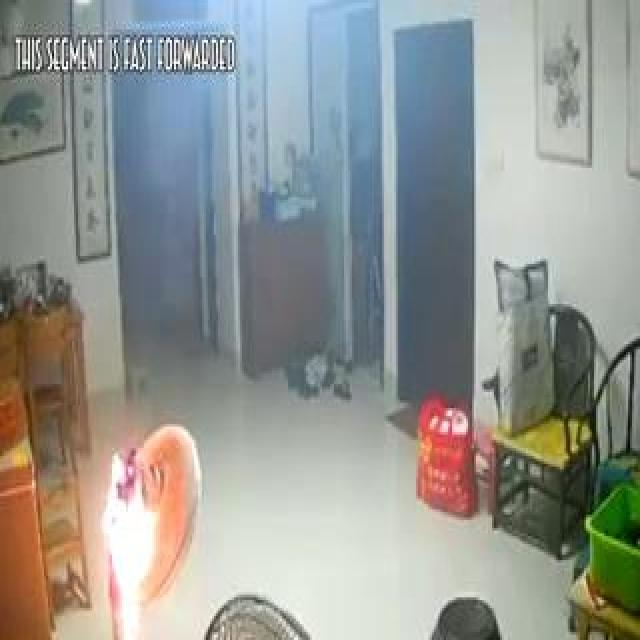Fire: (99, 378, 191, 626)
